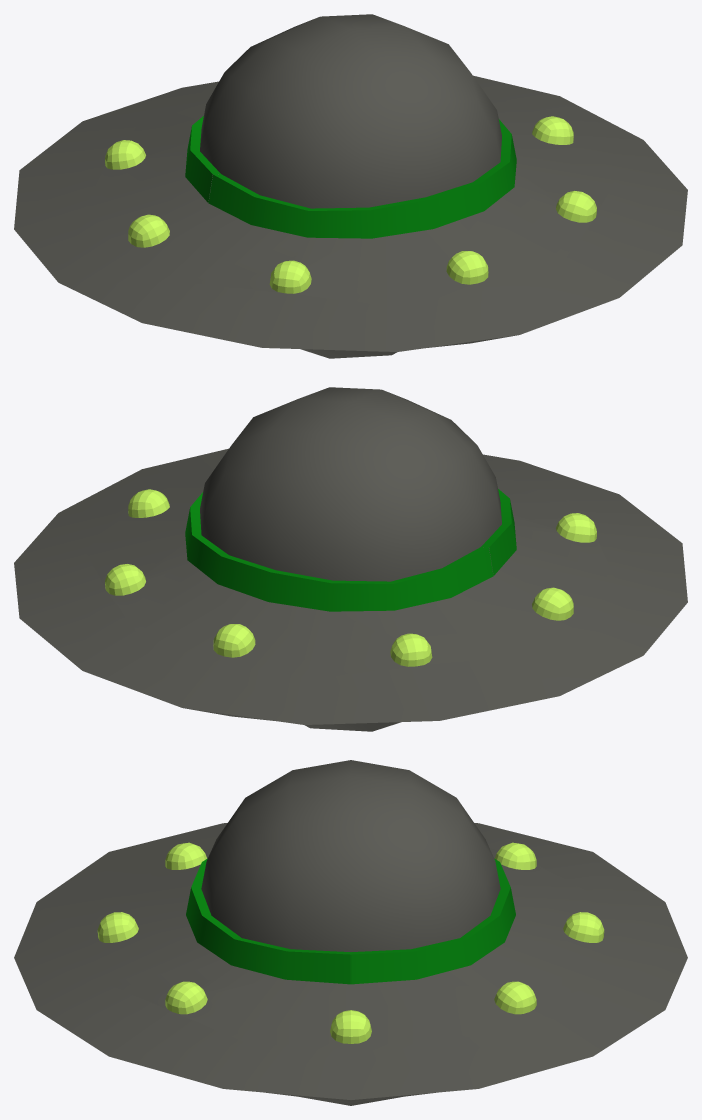
File: ufo.gltf
The picture shows the model from 3 angles, top to bottom: view 1: azimuth 30°, elevation 25°; view 2: azimuth 150°, elevation 25°; view 3: azimuth 270°, elevation 25°; orthographic projection.
Parts seen in each view (by area): view 1: ufo; view 2: ufo; view 3: ufo.
Boxes of the visible parts, x1=… form: ufo: x1=14, y1=14, x2=687, y2=358; ufo: x1=14, y1=387, x2=687, y2=731; ufo: x1=14, y1=760, x2=687, y2=1105.
Size of the model in its own units: 3.65 by 1.85 by 3.65.
Materials: 1 (1 with a texture image).
